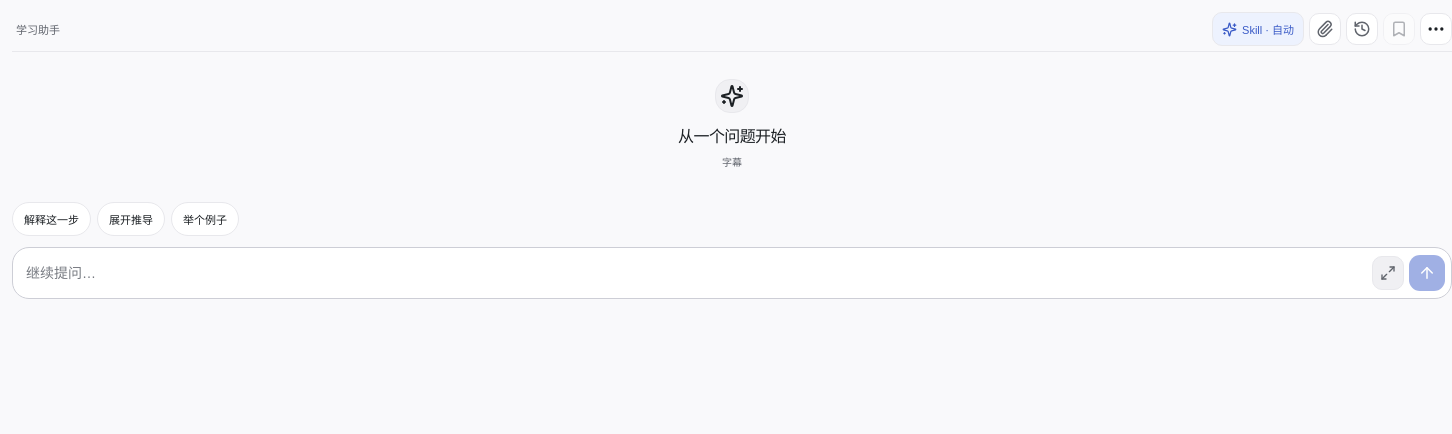
Scenario: 回答与公式显示 › 停止按钮取消真实请求，中断时保留收到的正文
The width and height of the screenshot is (1452, 434).
Type "解释" into the text box named "向学习助手提问" at (693, 273), box [19,254,1367,292]
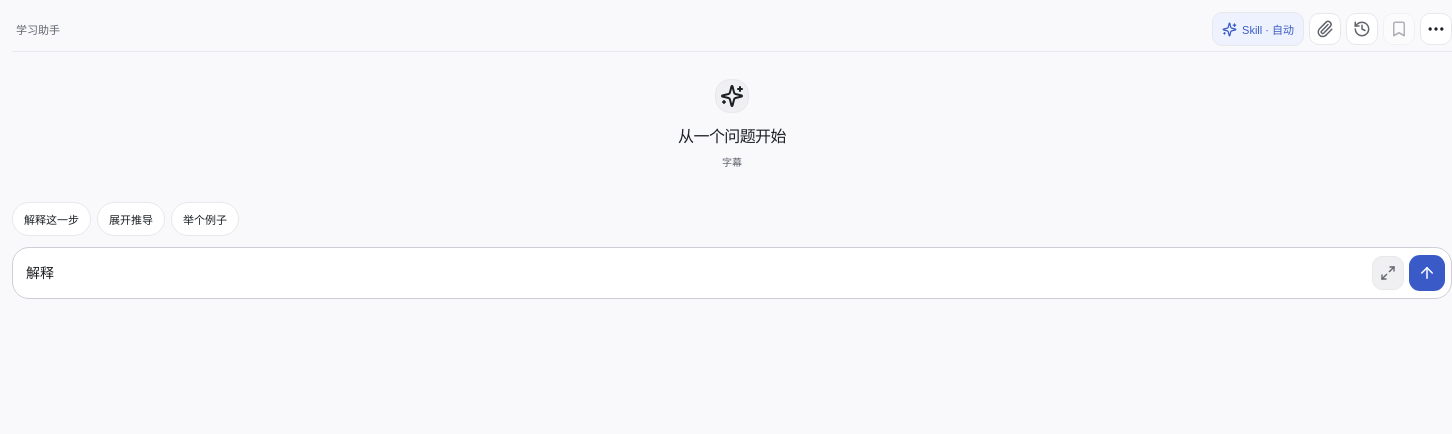
Click the button named "发送问题" at (1427, 273), box [1409,255,1445,291]
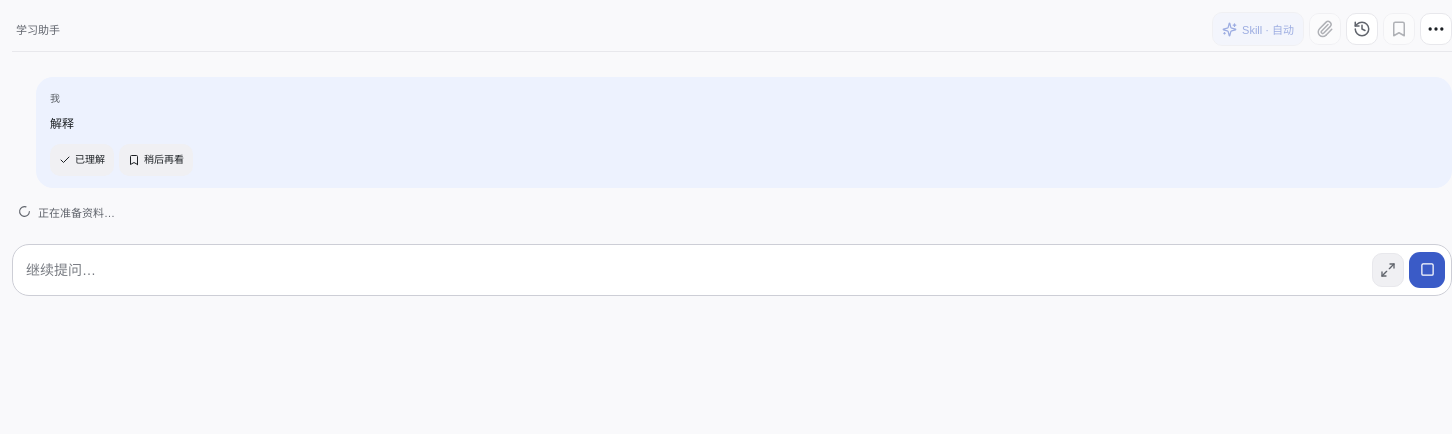
Click the button named "停止生成" at (1427, 270), box [1409,252,1445,288]
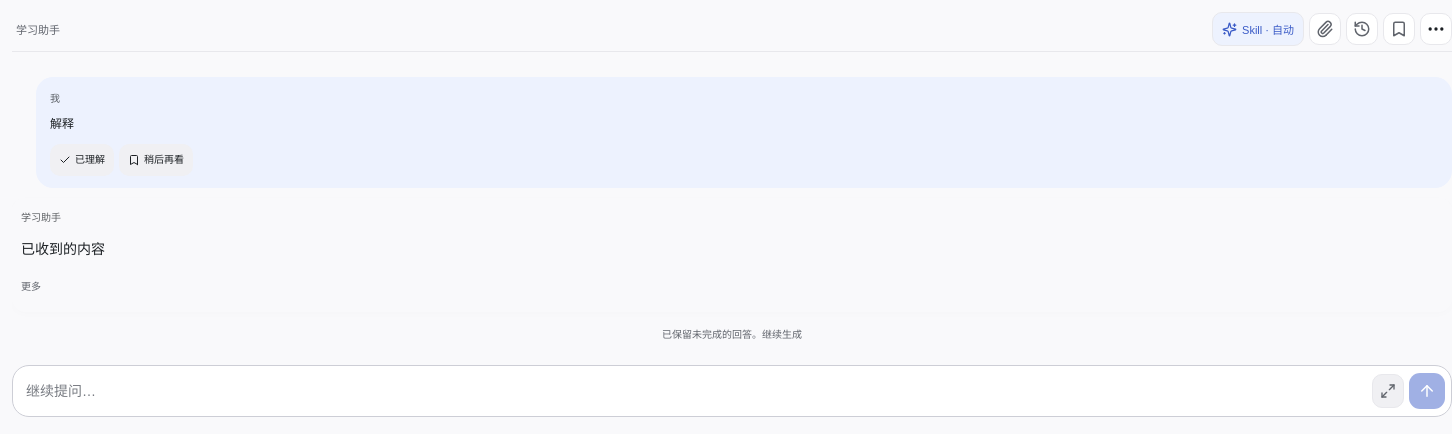
Expected: the text "已收到的内容" is shown, [21,241,105,257]
